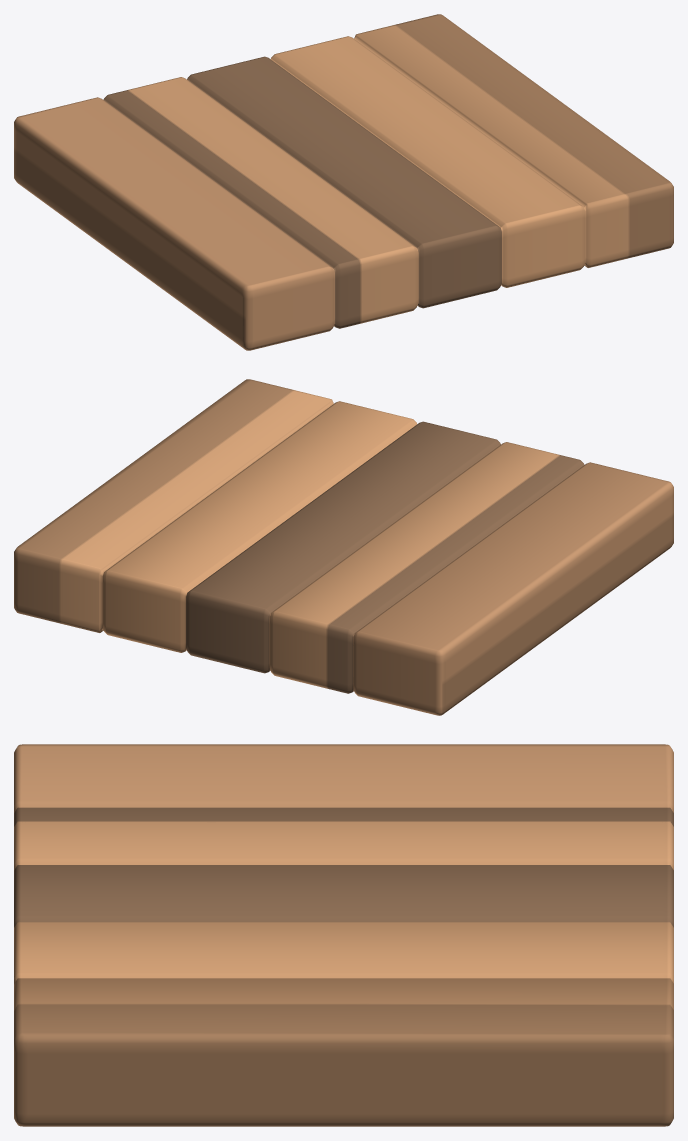
The model's file is HoopsBoxFloor4.fbx.
The picture shows the model from 3 angles, top to bottom: view 1: azimuth 30°, elevation 25°; view 2: azimuth 150°, elevation 25°; view 3: azimuth 270°, elevation 25°; orthographic projection. The views are drawn at different scales.
Parts seen in each view (by area): view 1: ENV_S02_MovableBox_MO_1.001; view 2: ENV_S02_MovableBox_MO_1.001; view 3: ENV_S02_MovableBox_MO_1.001.
Part boxes in pixels (x1,y1,x2,y2): ENV_S02_MovableBox_MO_1.001: [14, 14, 673, 350]; ENV_S02_MovableBox_MO_1.001: [14, 379, 673, 715]; ENV_S02_MovableBox_MO_1.001: [14, 744, 673, 1126].
Bounding box in the file's own units: 12.3 × 1.75 × 11.63.
